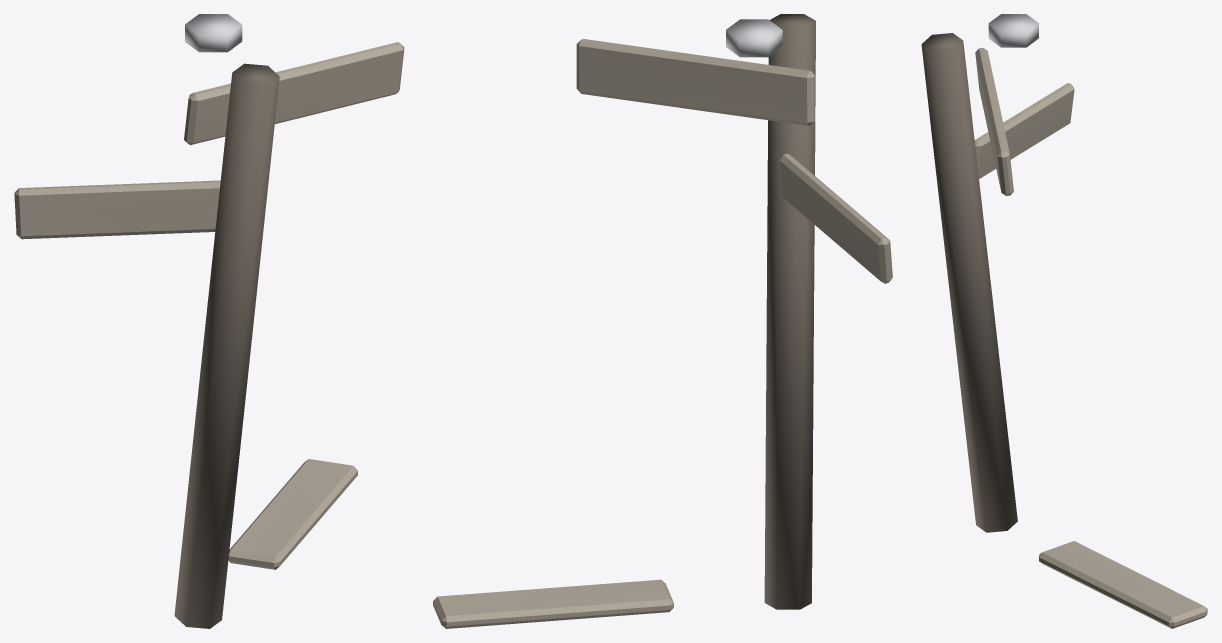
File: broken_signpost.glb
3 renders of one model, left to right at view 1: azimuth 30°, elevation 25°; view 2: azimuth 150°, elevation 25°; view 3: azimuth 270°, elevation 25°, orthographic. The views are drawn at different scales.
Parts seen in each view (by area): view 1: broken_signpost; view 2: broken_signpost; view 3: broken_signpost.
Part boxes in pixels (x1=…): broken_signpost: x1=14, y1=14, x2=404, y2=628; broken_signpost: x1=433, y1=14, x2=892, y2=628; broken_signpost: x1=921, y1=14, x2=1207, y2=628.
Bounding box in the file's own units: 1.94 × 2.69 × 1.36.
